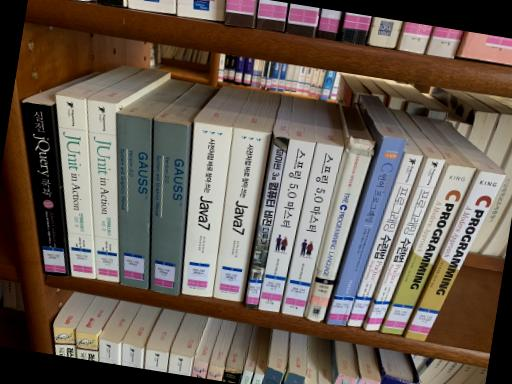book-spine: (404, 170, 506, 341), (380, 164, 476, 334), (327, 136, 407, 325), (364, 157, 446, 330), (347, 153, 423, 326), (304, 141, 375, 320), (282, 143, 344, 316), (213, 126, 271, 302), (258, 139, 315, 310), (182, 122, 233, 296), (21, 100, 68, 277), (244, 136, 289, 309), (56, 95, 95, 278), (151, 119, 188, 295), (87, 100, 120, 282), (117, 113, 151, 289)
